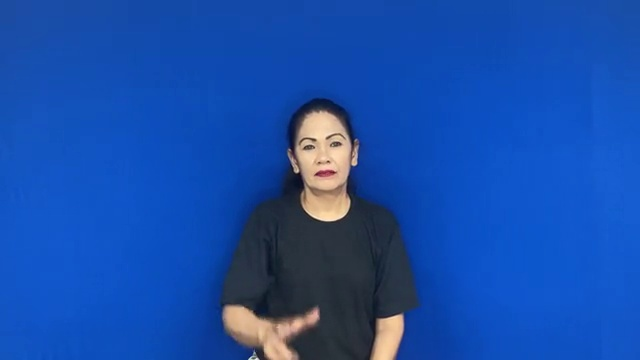chicken: (252, 297, 340, 360)
